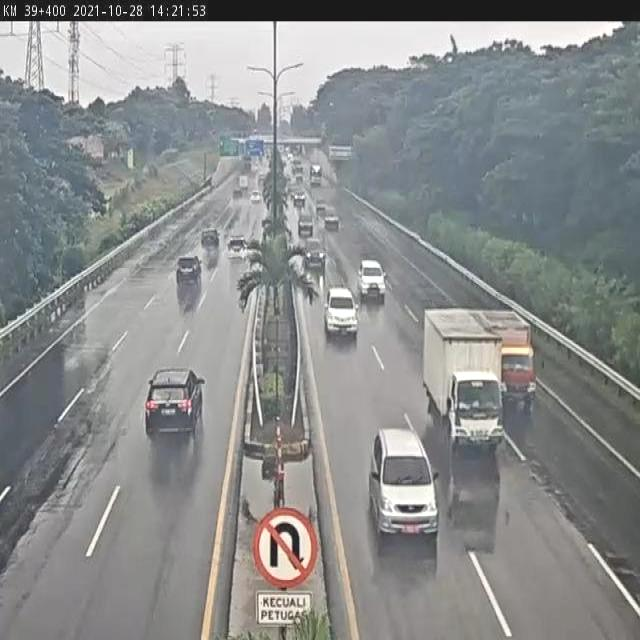Car: (367, 429, 440, 538), (142, 369, 207, 442), (324, 283, 360, 339), (355, 261, 389, 298), (174, 253, 205, 291), (303, 238, 327, 274), (226, 236, 248, 264), (201, 227, 221, 249), (297, 217, 314, 240)
Truck: (421, 308, 505, 452), (470, 308, 538, 411)
